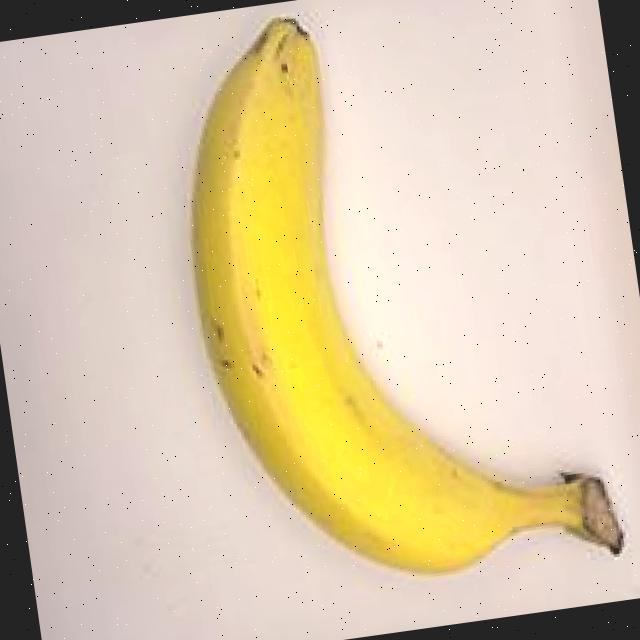Ripe: (109, 0, 640, 630)
